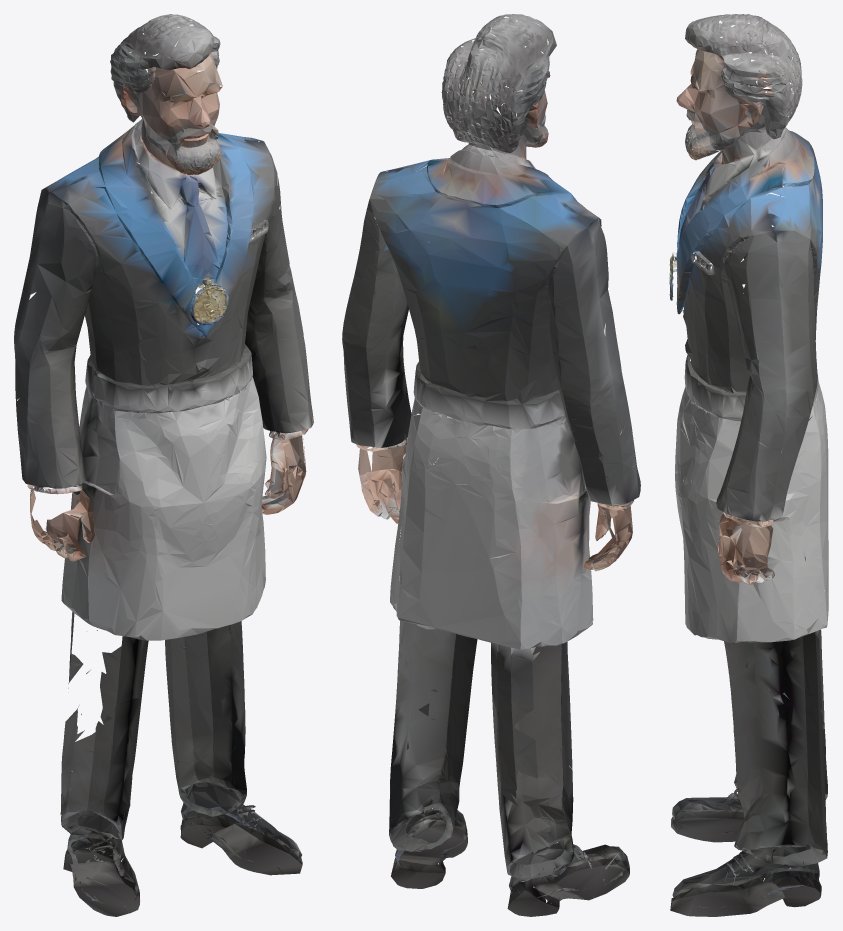
The model's file is mason.glb.
3 views of the same model, side by side, from view 1: azimuth 30°, elevation 25°; view 2: azimuth 150°, elevation 25°; view 3: azimuth 270°, elevation 25° (orthographic).
Bounding box in the file's own units: 0.6255 × 1.78 × 0.3032.
